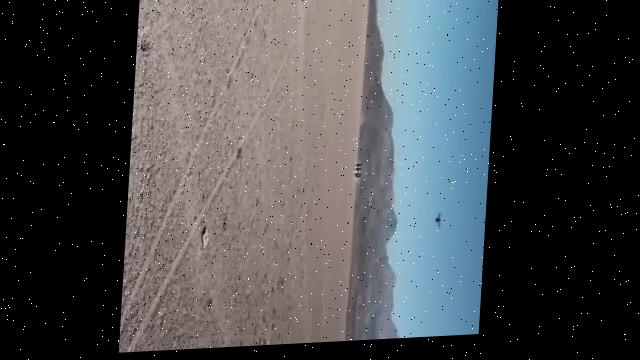drone: (435, 214, 446, 233)
